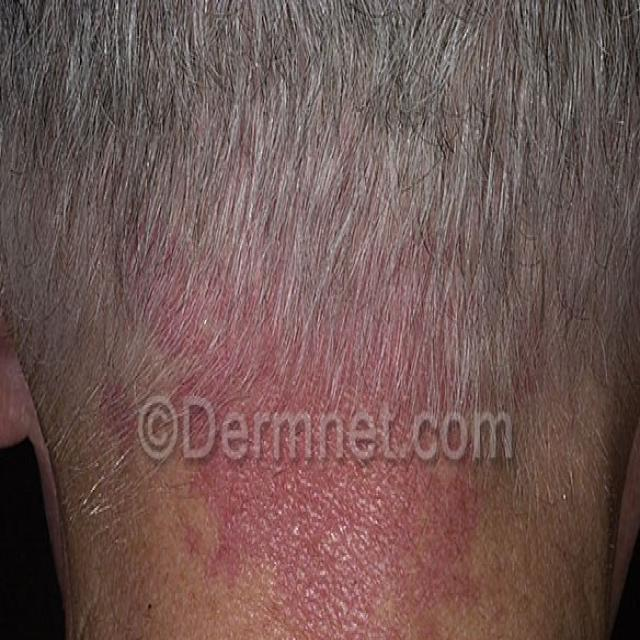Vascular Tumors: (154, 255, 504, 640)
